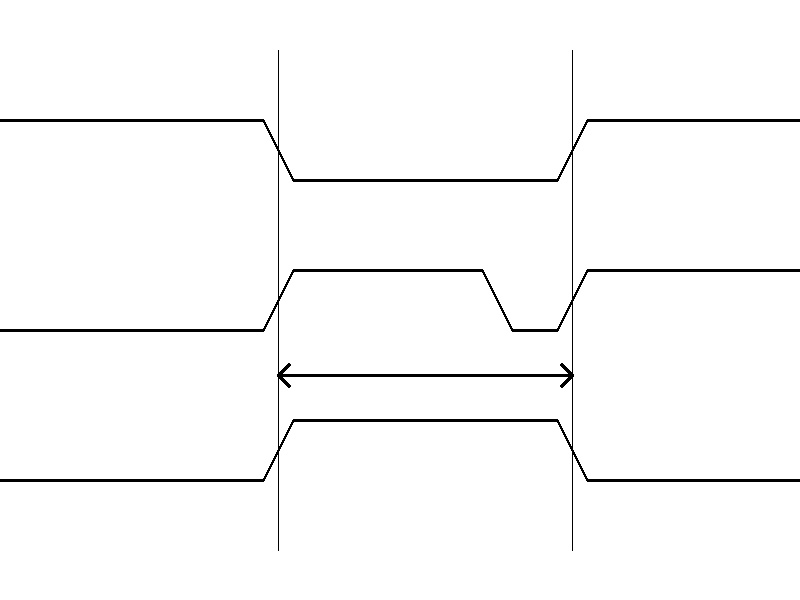double_arrow: (278, 360, 572, 390)
